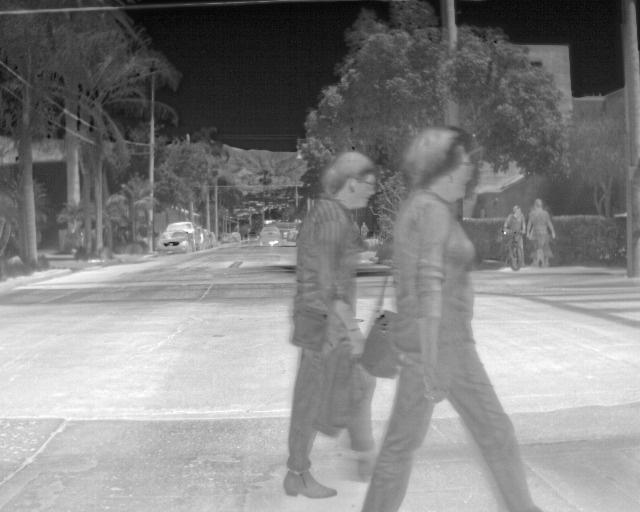bicycle: (168, 221, 200, 252), (155, 232, 193, 255), (258, 224, 281, 246)
empty: (361, 125, 533, 511), (282, 152, 376, 496), (525, 200, 558, 269), (500, 201, 529, 270), (358, 219, 370, 238)
